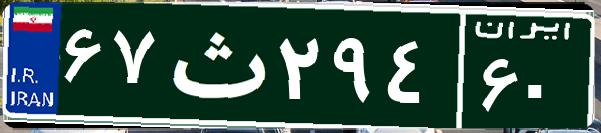0: (525, 38, 570, 115)
2: (273, 28, 330, 110)
4: (385, 28, 445, 110)
6: (57, 26, 110, 107), (475, 38, 525, 113)
7: (110, 28, 158, 105)
9: (330, 28, 385, 110)
ث: (158, 15, 273, 115)
